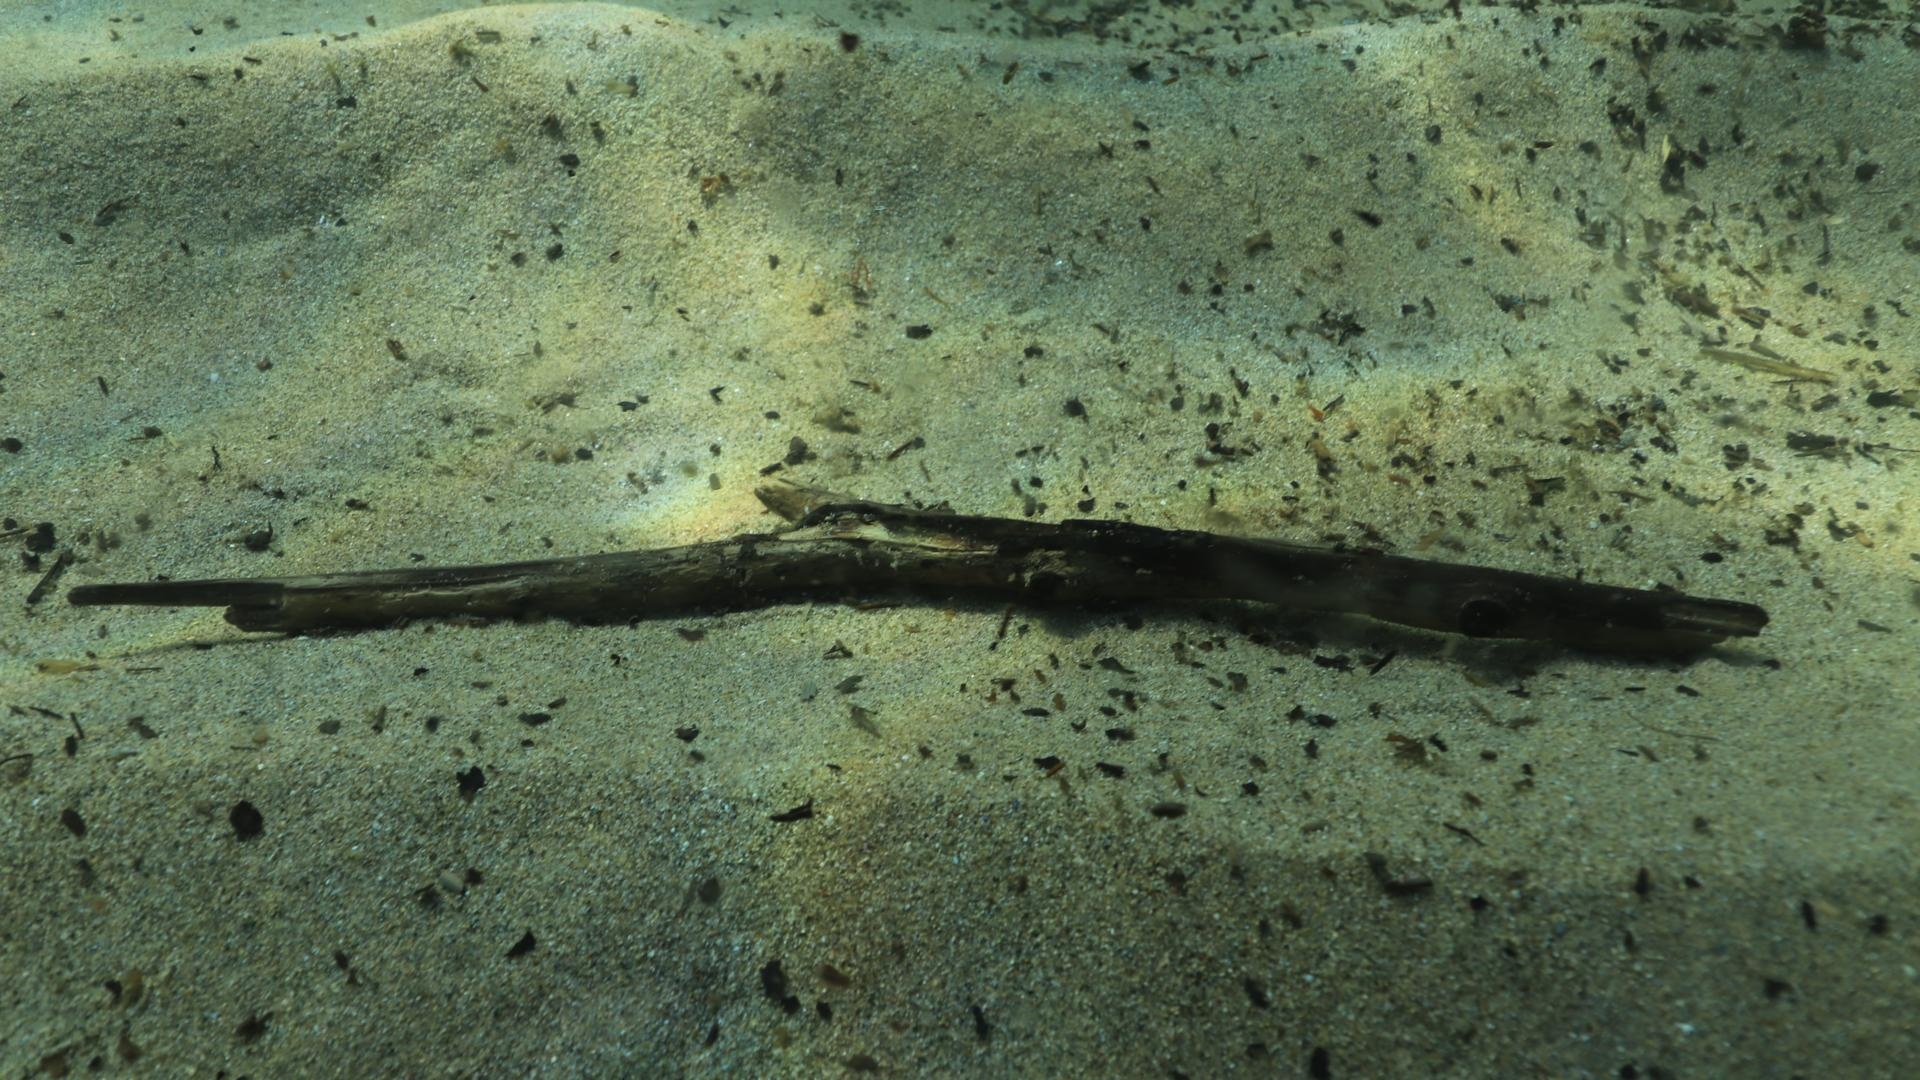wood: (65, 476, 1770, 667)
